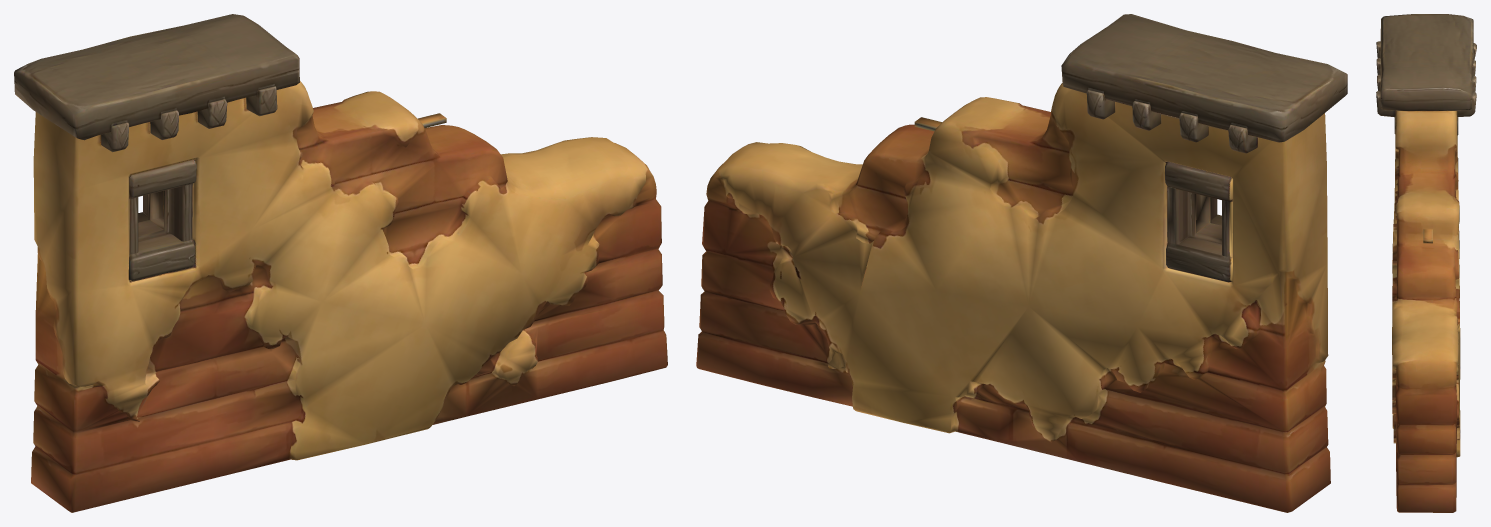
Rendered from SM_Tripo_DesertPosthouseWall.glb.
3 views of the same model, side by side, from view 1: azimuth 30°, elevation 25°; view 2: azimuth 150°, elevation 25°; view 3: azimuth 270°, elevation 25° (orthographic). The views are drawn at different scales.
Parts seen in each view (by area): view 1: SM_Tripo_DesertPosthouseWall_LOD0; view 2: SM_Tripo_DesertPosthouseWall_LOD0; view 3: SM_Tripo_DesertPosthouseWall_LOD0.
Boxes of the visible parts, x1=… form: SM_Tripo_DesertPosthouseWall_LOD0: x1=14, y1=14, x2=667, y2=512; SM_Tripo_DesertPosthouseWall_LOD0: x1=696, y1=14, x2=1347, y2=512; SM_Tripo_DesertPosthouseWall_LOD0: x1=1376, y1=14, x2=1476, y2=512.
Size of the model in its own units: 4.87 by 3.2 by 0.992.
1 material, 1 textured.
